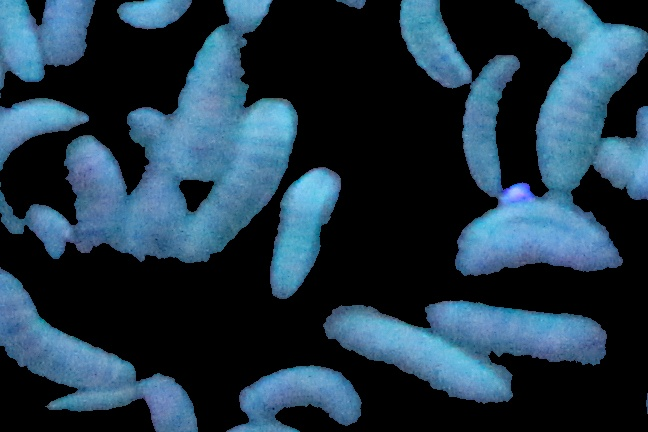larvae: (535, 27, 648, 189), (328, 302, 512, 400), (191, 97, 303, 251), (1, 263, 133, 391), (423, 296, 609, 365), (173, 25, 245, 182), (270, 164, 340, 301), (454, 201, 611, 257), (462, 56, 521, 197), (1, 98, 94, 185), (125, 105, 187, 235), (240, 370, 362, 425), (66, 136, 128, 243), (393, 1, 470, 85), (22, 208, 91, 265), (1, 1, 48, 81), (519, 1, 600, 46), (144, 373, 205, 432), (42, 1, 91, 66), (42, 388, 149, 414)
